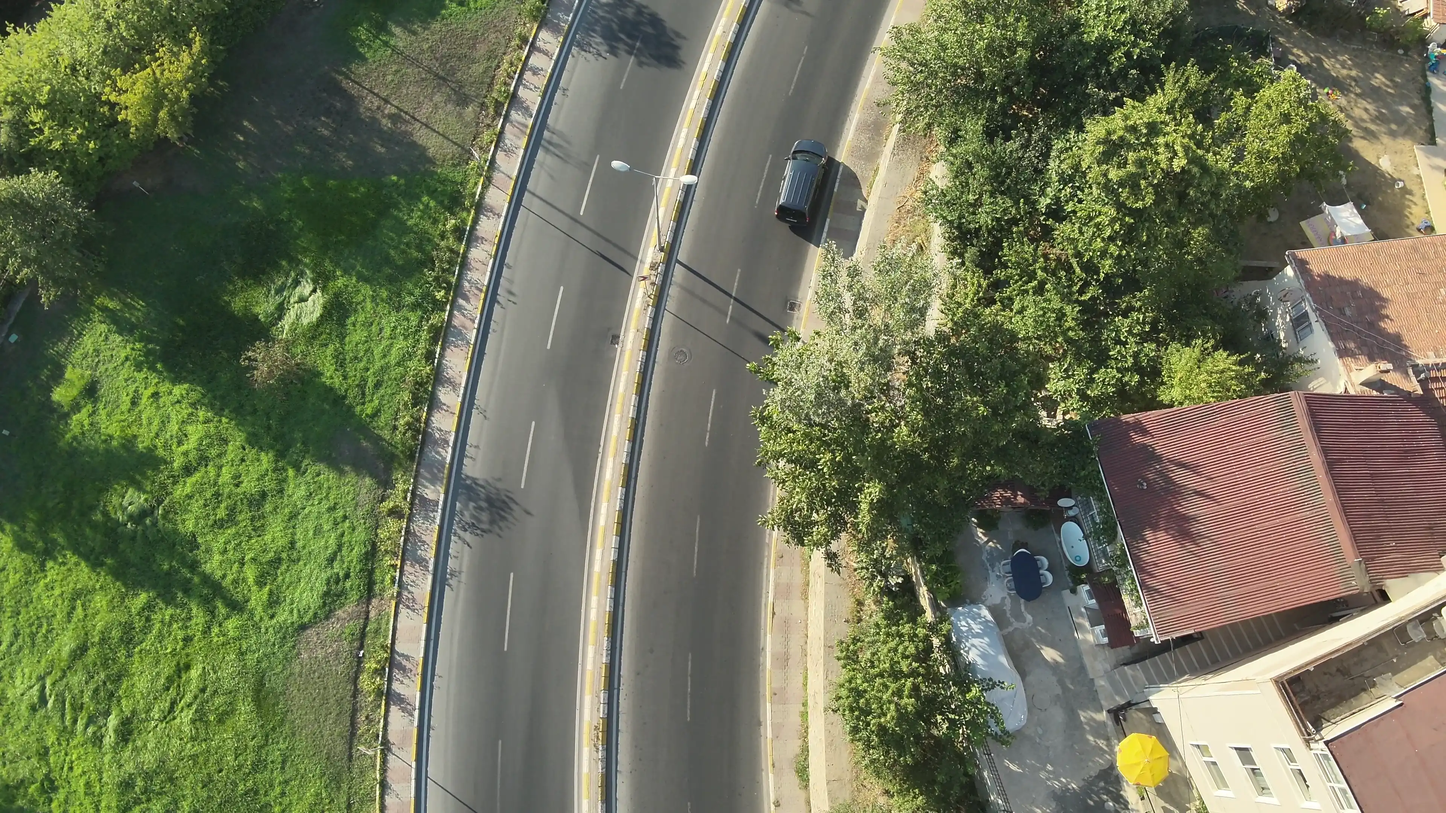vehicle: (769, 134, 833, 228)
